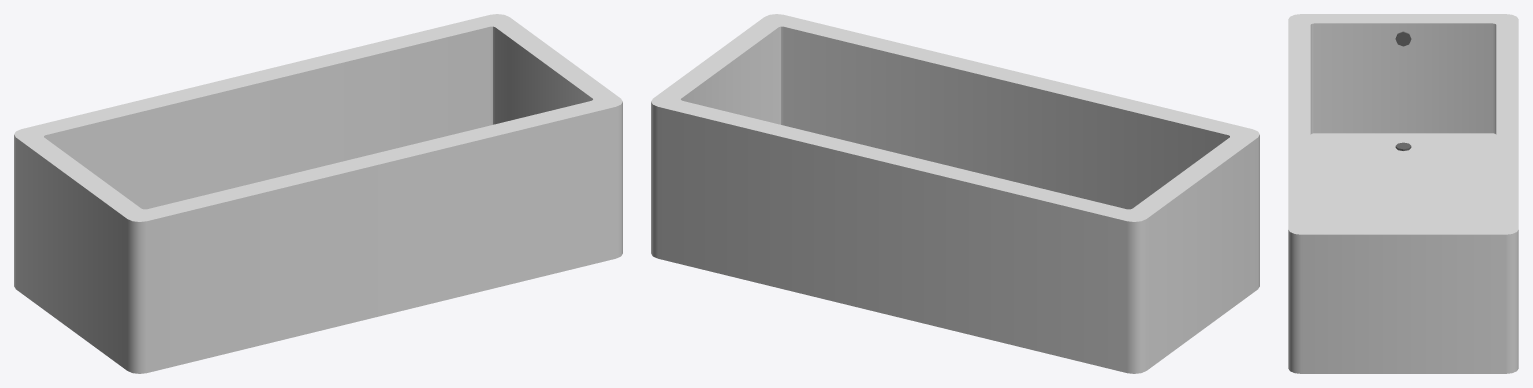
The model's file is Bathroom_03.fbx.
3 views of the same model, side by side, from view 1: azimuth 30°, elevation 25°; view 2: azimuth 150°, elevation 25°; view 3: azimuth 270°, elevation 25° (orthographic). The views are drawn at different scales.
Visible parts, largest first — view 1: Bathroom_03; view 2: Bathroom_03; view 3: Bathroom_03.
Part boxes in pixels (box(x1,y1,x2,y2)): Bathroom_03: box(14, 14, 622, 373); Bathroom_03: box(651, 14, 1259, 373); Bathroom_03: box(1288, 14, 1518, 373).
Size of the model in its own units: 170 by 50 by 75.
